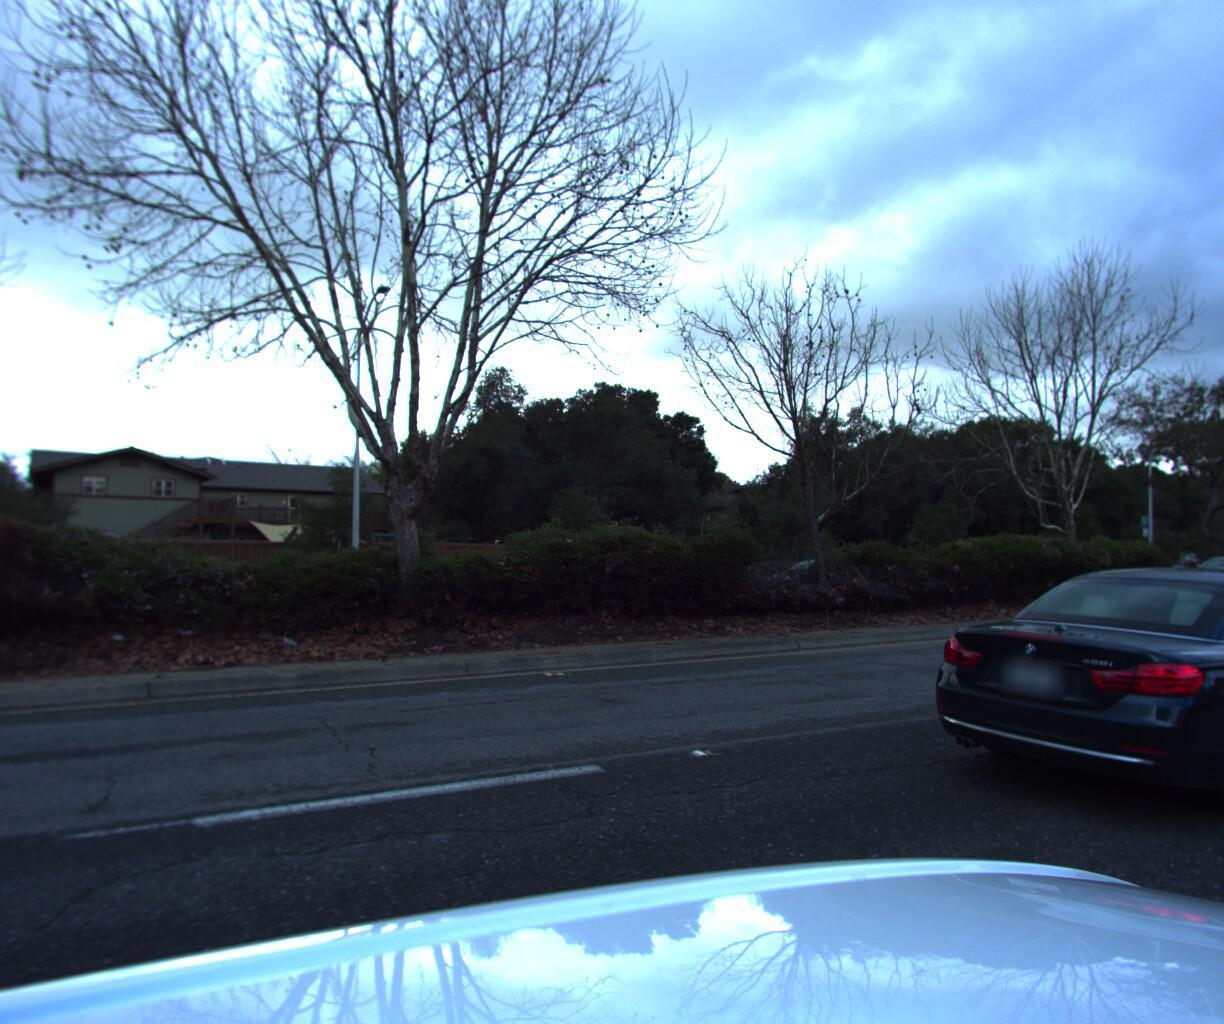car: (888, 561, 1224, 858), (1176, 555, 1224, 586)
